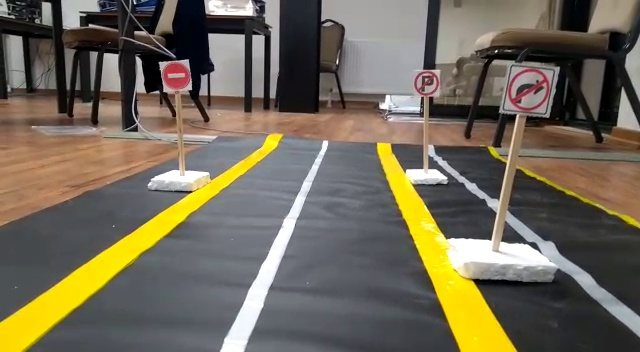girisi_olmayan_yol: (159, 61, 190, 93)
park_yapilmaz: (413, 67, 441, 99)
saga_donulmez: (507, 65, 551, 116)
